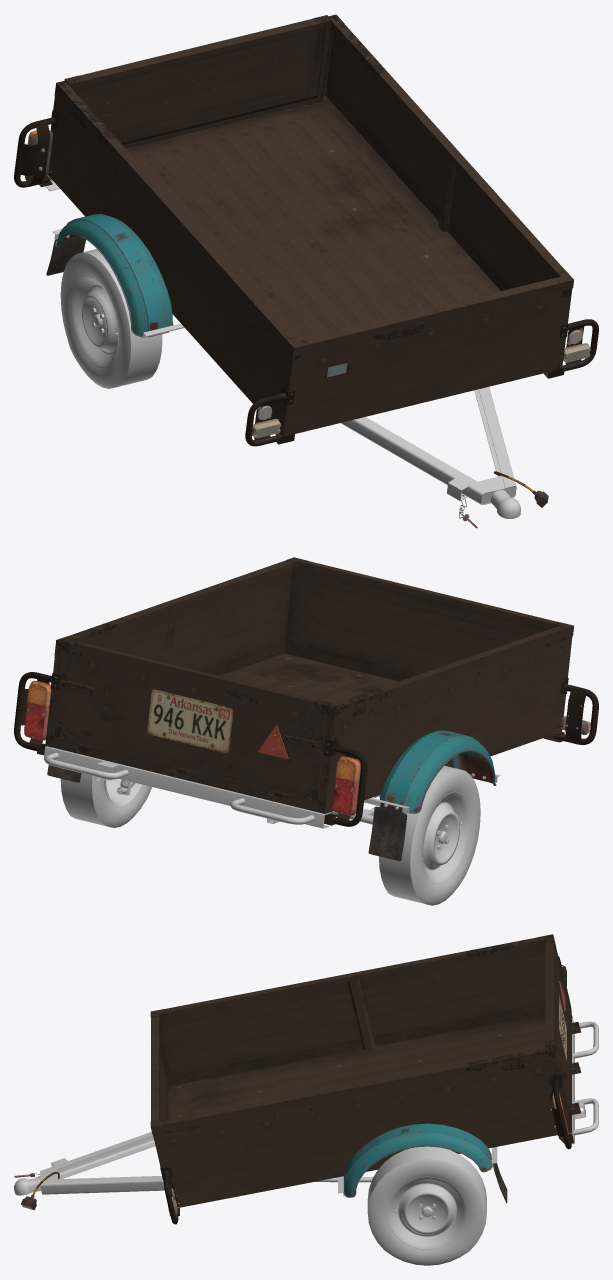
Rendered from utility trailer.fbx.
3 renders of one model, top to bottom at view 1: azimuth 30°, elevation 25°; view 2: azimuth 150°, elevation 25°; view 3: azimuth 270°, elevation 25°, orthographic. The views are drawn at different scales.
Visible parts, largest first — view 1: Rama_16_low; view 2: Rama_16_low; view 3: Rama_16_low.
Part boxes in pixels (x1,y1,x2,y2): Rama_16_low: (14,14,598,528); Rama_16_low: (14,557,598,905); Rama_16_low: (14,934,598,1265).
Size of the model in its own units: 166 by 104 by 272.
